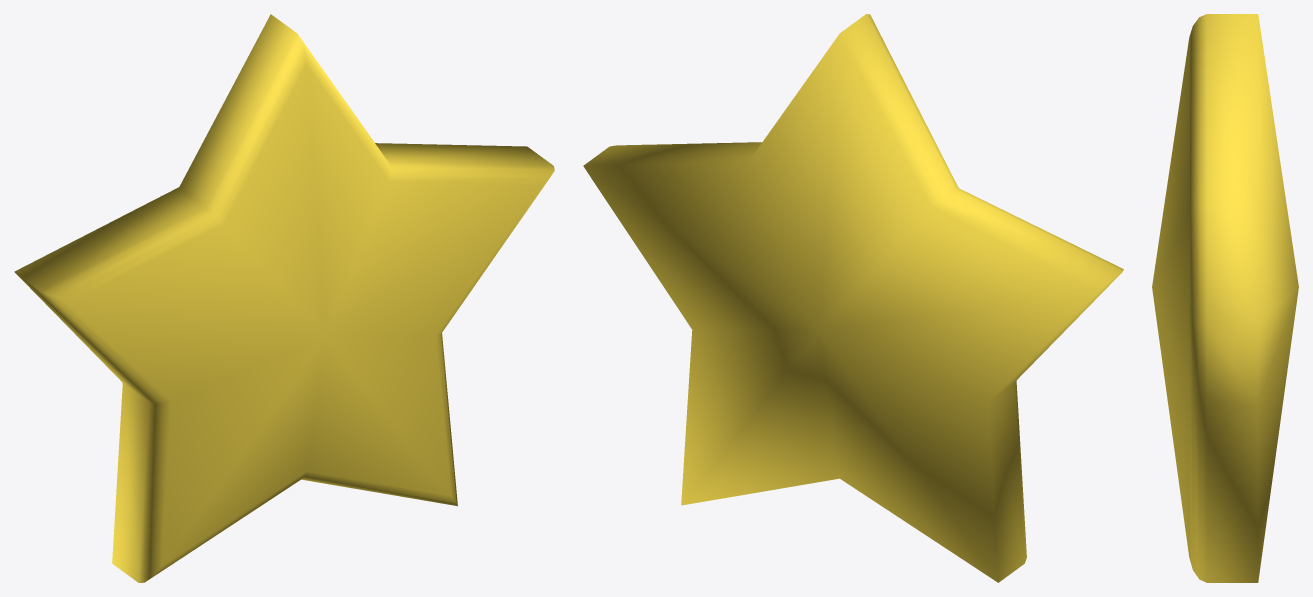
File: starv2.glb
3 renders of one model, left to right at view 1: azimuth 30°, elevation 25°; view 2: azimuth 150°, elevation 25°; view 3: azimuth 270°, elevation 25°, orthographic. The views are drawn at different scales.
Parts seen in each view (by area): view 1: Circle; view 2: Circle; view 3: Circle.
Part boxes in pixels (left/top/right/bottom): Circle: left=14, top=14, right=554, bottom=582; Circle: left=583, top=14, right=1123, bottom=582; Circle: left=1152, top=14, right=1298, bottom=582.
Size of the model in its own units: 1.9 by 1.81 by 0.4875.
